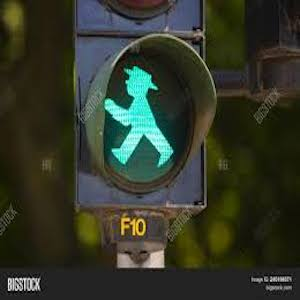green: (100, 63, 181, 166)
